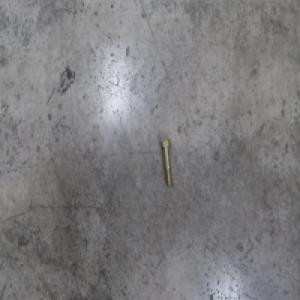Bolt: (159, 138, 172, 187)
